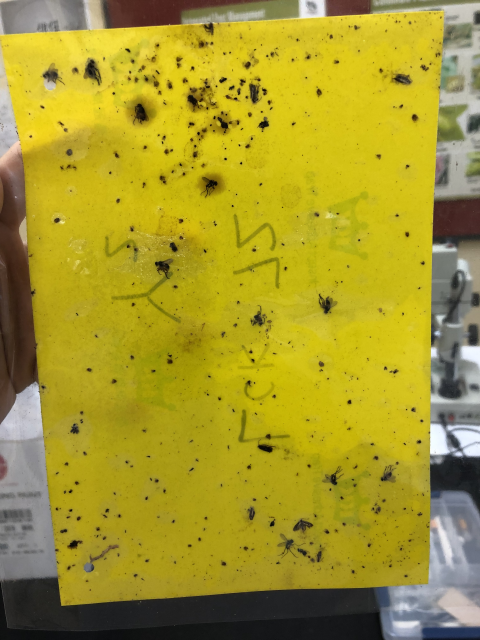DBM: (252, 437, 277, 455), (290, 516, 316, 533), (388, 71, 414, 86), (248, 82, 263, 107), (247, 505, 257, 522)
